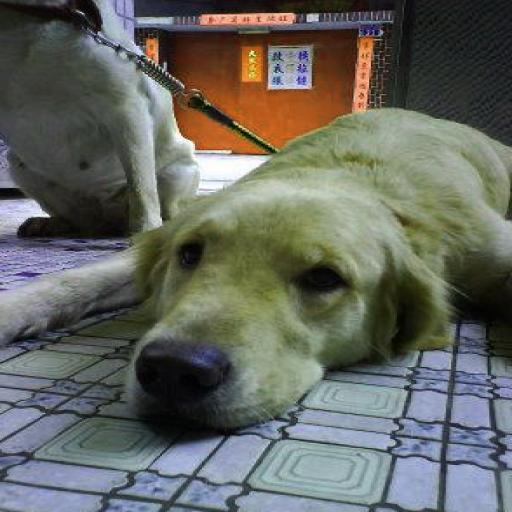dog_face: (129, 182, 421, 424)
